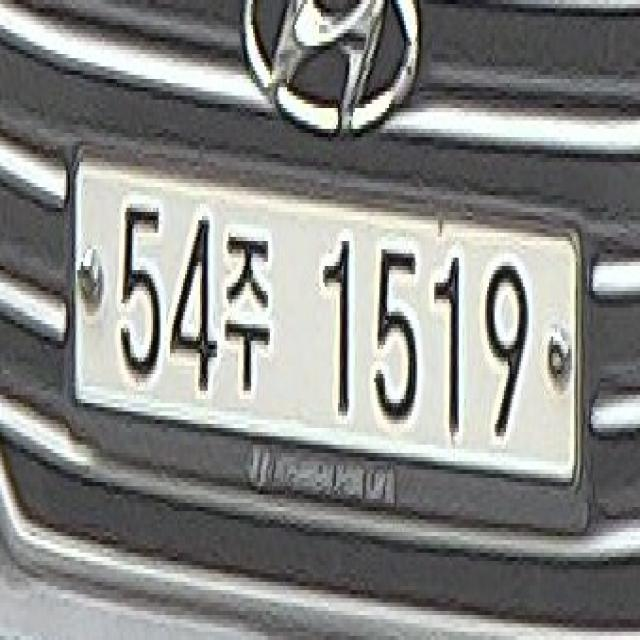1: (321, 208, 366, 444), (421, 241, 464, 461)
4: (162, 179, 221, 407)
5: (366, 216, 417, 453), (117, 187, 164, 391)
9: (478, 245, 544, 453)
ju: (221, 220, 276, 391)
license_plate: (60, 137, 589, 545)
